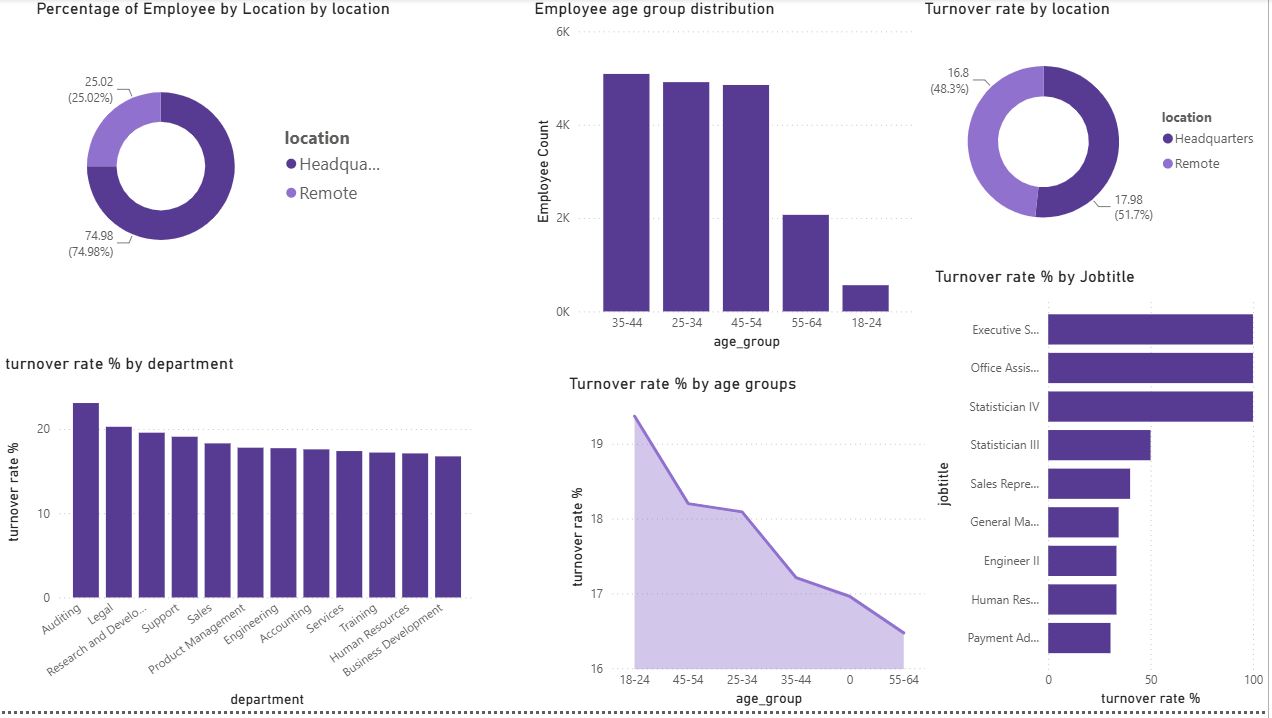

What the dashboard file says about the page in this screenshot:
{"tool":"powerbi","page":{"name":"Page 2","canvas":[1280,720],"ordinal":1},"visuals":[{"type":"columnChart","title":"Employee age group distribution","fields":{"Category":["age_group_distribution.age_group"],"Y":["Sum(age_group_distribution.no_of_employees)"]},"box":[534.8,0,393.1,359.1],"z":0},{"type":"columnChart","fields":{"Y":["Sum(departments_turnover.turnover_rate)"],"Category":["departments_turnover.department"]},"box":[0,359.1,483.8,360.9],"z":1000},{"type":"clusteredBarChart","title":"Turnover rate % by Jobtitle","fields":{"Category":["jobtitle_turnover.jobtitle"],"Y":["Sum(jobtitle_turnover.turnover_rate)"]},"box":[938.8,271,340.7,448.2],"z":2000},{"type":"areaChart","title":"Turnover rate % by age groups","fields":{"Category":["age_group_turnover.age_group"],"Y":["Sum(age_group_turnover.turnover_rate)"]},"box":[569.3,378.6,369.5,340.7],"z":3000},{"type":"donutChart","title":"Turnover rate by location","fields":{"Category":["location_turnover.location"],"Y":["Sum(location_turnover.turnover_rate)"]},"box":[927.9,0,351.5,270.2],"z":4000},{"type":"donutChart","fields":{"Y":["Sum(location_proportion.percentage)"],"Category":["location_proportion.location"]},"box":[32.1,0,368.5,319.4],"z":5000}]}

Visuals, with their boxes in screenshot pixels (x1, y1, x2, y2), scaled from the page's 1280x720 canvas onto the 1272x718 screenshot:
"Employee age group distribution" columnChart: x1=531 y1=0 x2=922 y2=358
columnChart - Sum(departments_turnover.turnover_rate) x departments_turnover.department: x1=0 y1=358 x2=481 y2=717
"Turnover rate % by Jobtitle" clusteredBarChart: x1=933 y1=270 x2=1271 y2=717
"Turnover rate % by age groups" areaChart: x1=566 y1=378 x2=933 y2=717
"Turnover rate by location" donutChart: x1=922 y1=0 x2=1271 y2=269
donutChart - Sum(location_proportion.percentage) x location_proportion.location: x1=32 y1=0 x2=398 y2=319
